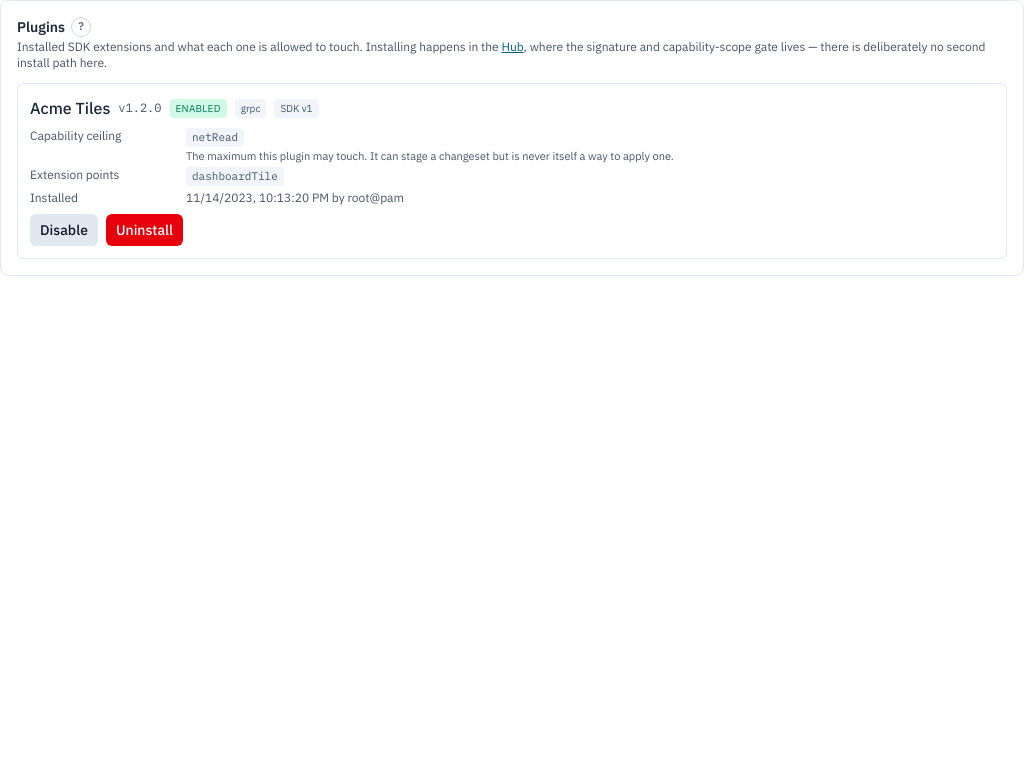
Test: the capability ceiling › repeats the scope in the uninstall confirmation
Click the button with test id "plugin-uninstall-acme-tiles".
click(144, 230)  # box x1=106 y1=214 x2=183 y2=246
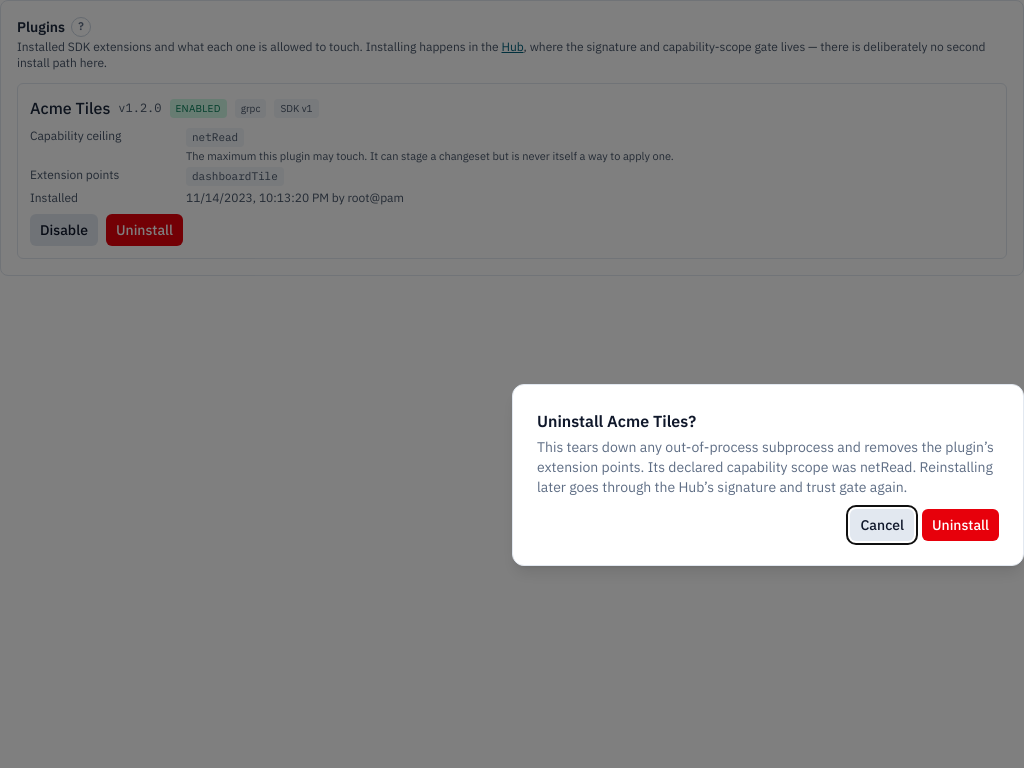
Now the text "declared capability scope was netRead" is shown, box x1=537 y1=437 x2=999 y2=497
